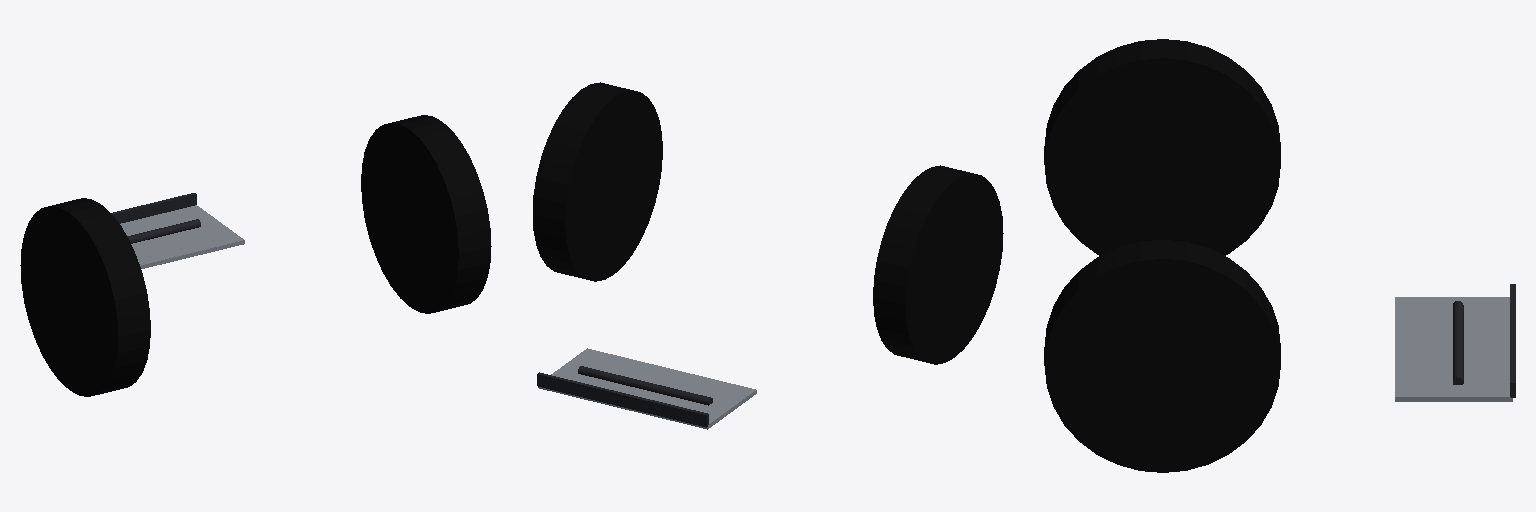
URDF robot description (hand_truck_dolly):
<robot name="hand_truck_dolly">
  <material name="painted_steel">
    <color rgba="0.17 0.18 0.2 1" />
  </material>
  <material name="brushed_steel">
    <color rgba="0.55 0.57 0.6 1" />
  </material>
  <material name="black_rubber">
    <color rgba="0.08 0.08 0.08 1" />
  </material>
  <material name="dark_polymer">
    <color rgba="0.14 0.14 0.15 1" />
  </material>
  <link name="frame">
    <inertial>
      <origin xyz="0 0.018 0.63" rpy="0 0 0" />
      <mass value="7.8" />
      <inertia ixx="0.91442" ixy="0" ixz="0" iyy="1.05482" iyz="0" izz="0.15912" />
    </inertial>
    <visual>
      <geometry>
        <mesh filename="meshes/frame.glb" />
      </geometry>
      <material name="painted_steel">
        <color rgba="0.17 0.18 0.2 1" />
      </material>
    </visual>
    <collision name="frame__visual_1__hull_001">
      <geometry>
        <mesh filename="meshes/collision/cache/539afef2043c40fd7223d4e5__hull_001.obj" />
      </geometry>
    </collision>
    <collision name="frame__visual_1__hull_002">
      <geometry>
        <mesh filename="meshes/collision/cache/539afef2043c40fd7223d4e5__hull_002.obj" />
      </geometry>
    </collision>
    <collision name="frame__visual_1__hull_003">
      <geometry>
        <mesh filename="meshes/collision/cache/539afef2043c40fd7223d4e5__hull_003.obj" />
      </geometry>
    </collision>
    <collision name="frame__visual_1__hull_004">
      <geometry>
        <mesh filename="meshes/collision/cache/539afef2043c40fd7223d4e5__hull_004.obj" />
      </geometry>
    </collision>
    <collision name="frame__visual_1__hull_005">
      <geometry>
        <mesh filename="meshes/collision/cache/539afef2043c40fd7223d4e5__hull_005.obj" />
      </geometry>
    </collision>
    <collision name="frame__visual_1__hull_006">
      <geometry>
        <mesh filename="meshes/collision/cache/539afef2043c40fd7223d4e5__hull_006.obj" />
      </geometry>
    </collision>
    <collision name="frame__visual_1__hull_007">
      <geometry>
        <mesh filename="meshes/collision/cache/539afef2043c40fd7223d4e5__hull_007.obj" />
      </geometry>
    </collision>
    <collision name="frame__visual_1__hull_008">
      <geometry>
        <mesh filename="meshes/collision/cache/539afef2043c40fd7223d4e5__hull_008.obj" />
      </geometry>
    </collision>
    <collision name="frame__visual_1__hull_009">
      <geometry>
        <mesh filename="meshes/collision/cache/539afef2043c40fd7223d4e5__hull_009.obj" />
      </geometry>
    </collision>
  </link>
  <link name="toe_plate">
    <inertial>
      <origin xyz="0 0.12 0.018" rpy="0 0 0" />
      <mass value="2.1" />
      <inertia ixx="0.012355" ixy="0" ixz="0" iyy="0.0216475" iyz="0" izz="0.0311675" />
    </inertial>
    <visual>
      <geometry>
        <mesh filename="meshes/toe_plate.glb" />
      </geometry>
      <material name="brushed_steel">
        <color rgba="0.55 0.57 0.6 1" />
      </material>
    </visual>
    <collision name="toe_plate__visual_1__hull_001">
      <geometry>
        <mesh filename="meshes/collision/cache/704c2d75970f3a1a1082b8c9__hull_001.obj" />
      </geometry>
    </collision>
    <collision name="toe_plate__visual_1__hull_002">
      <geometry>
        <mesh filename="meshes/collision/cache/704c2d75970f3a1a1082b8c9__hull_002.obj" />
      </geometry>
    </collision>
    <collision name="toe_plate__visual_1__hull_003">
      <geometry>
        <mesh filename="meshes/collision/cache/704c2d75970f3a1a1082b8c9__hull_003.obj" />
      </geometry>
    </collision>
    <collision name="toe_plate__visual_1__hull_004">
      <geometry>
        <mesh filename="meshes/collision/cache/704c2d75970f3a1a1082b8c9__hull_004.obj" />
      </geometry>
    </collision>
    <collision name="toe_plate__visual_1__hull_005">
      <geometry>
        <mesh filename="meshes/collision/cache/704c2d75970f3a1a1082b8c9__hull_005.obj" />
      </geometry>
    </collision>
    <collision name="toe_plate__visual_1__hull_006">
      <geometry>
        <mesh filename="meshes/collision/cache/704c2d75970f3a1a1082b8c9__hull_006.obj" />
      </geometry>
    </collision>
    <collision name="toe_plate__visual_1__hull_007">
      <geometry>
        <mesh filename="meshes/collision/cache/704c2d75970f3a1a1082b8c9__hull_007.obj" />
      </geometry>
    </collision>
    <collision name="toe_plate__visual_1__hull_008">
      <geometry>
        <mesh filename="meshes/collision/cache/704c2d75970f3a1a1082b8c9__hull_008.obj" />
      </geometry>
    </collision>
    <collision name="toe_plate__visual_1__hull_009">
      <geometry>
        <mesh filename="meshes/collision/cache/704c2d75970f3a1a1082b8c9__hull_009.obj" />
      </geometry>
    </collision>
    <collision name="toe_plate__visual_1__hull_010">
      <geometry>
        <mesh filename="meshes/collision/cache/704c2d75970f3a1a1082b8c9__hull_010.obj" />
      </geometry>
    </collision>
    <collision name="toe_plate__visual_1__hull_011">
      <geometry>
        <mesh filename="meshes/collision/cache/704c2d75970f3a1a1082b8c9__hull_011.obj" />
      </geometry>
    </collision>
    <collision name="toe_plate__visual_1__hull_012">
      <geometry>
        <mesh filename="meshes/collision/cache/704c2d75970f3a1a1082b8c9__hull_012.obj" />
      </geometry>
    </collision>
    <collision name="toe_plate__visual_1__hull_013">
      <geometry>
        <mesh filename="meshes/collision/cache/704c2d75970f3a1a1082b8c9__hull_013.obj" />
      </geometry>
    </collision>
    <collision name="toe_plate__visual_1__hull_014">
      <geometry>
        <mesh filename="meshes/collision/cache/704c2d75970f3a1a1082b8c9__hull_014.obj" />
      </geometry>
    </collision>
    <collision name="toe_plate__visual_1__hull_015">
      <geometry>
        <mesh filename="meshes/collision/cache/704c2d75970f3a1a1082b8c9__hull_015.obj" />
      </geometry>
    </collision>
    <collision name="toe_plate__visual_1__hull_016">
      <geometry>
        <mesh filename="meshes/collision/cache/704c2d75970f3a1a1082b8c9__hull_016.obj" />
      </geometry>
    </collision>
  </link>
  <link name="toe_extension">
    <inertial>
      <origin xyz="0 0.065 0.006" rpy="0 0 0" />
      <mass value="0.8" />
      <inertia ixx="0.00134833" ixy="0" ixz="0" iyy="0.00454833" iyz="0" izz="0.00581333" />
    </inertial>
    <visual>
      <origin xyz="0 0.055 -0.003" rpy="0 0 0" />
      <geometry>
        <box size="0.26 0.13 0.006" />
      </geometry>
      <material name="brushed_steel">
        <color rgba="0.55 0.57 0.6 1" />
      </material>
    </visual>
    <visual>
      <origin xyz="0 0.12 0.007" rpy="0 0 0" />
      <geometry>
        <box size="0.26 0.006 0.018" />
      </geometry>
      <material name="painted_steel">
        <color rgba="0.17 0.18 0.2 1" />
      </material>
    </visual>
    <visual>
      <origin xyz="0 0.06 0.003" rpy="0 1.5708 0" />
      <geometry>
        <cylinder radius="0.006" length="0.2" />
      </geometry>
      <material name="painted_steel">
        <color rgba="0.17 0.18 0.2 1" />
      </material>
    </visual>
    <collision name="toe_extension__visual_1">
      <origin xyz="0 0.055 -0.003" rpy="0 0 0" />
      <geometry>
        <box size="0.26 0.13 0.006" />
      </geometry>
    </collision>
    <collision name="toe_extension__visual_2">
      <origin xyz="0 0.12 0.007" rpy="0 0 0" />
      <geometry>
        <box size="0.26 0.006 0.018" />
      </geometry>
    </collision>
    <collision name="toe_extension__visual_3">
      <origin xyz="0 0.06 0.003" rpy="0 1.5708 0" />
      <geometry>
        <cylinder radius="0.006" length="0.2" />
      </geometry>
    </collision>
  </link>
  <link name="left_wheel">
    <inertial>
      <origin xyz="0.026 0 0" rpy="0 1.5708 0" />
      <mass value="1.9" />
      <inertia ixx="0.00842333" ixy="0" ixz="0" iyy="0.00842333" iyz="0" izz="0.016055" />
    </inertial>
    <visual>
      <origin xyz="0.026 0 0" rpy="0 1.5708 0" />
      <geometry>
        <cylinder radius="0.13" length="0.05" />
      </geometry>
      <material name="black_rubber">
        <color rgba="0.08 0.08 0.08 1" />
      </material>
    </visual>
    <visual>
      <origin xyz="0.026 0 0" rpy="0 1.5708 0" />
      <geometry>
        <cylinder radius="0.07" length="0.036" />
      </geometry>
      <material name="dark_polymer">
        <color rgba="0.14 0.14 0.15 1" />
      </material>
    </visual>
    <visual>
      <origin xyz="0.026 0 0" rpy="0 1.5708 0" />
      <geometry>
        <cylinder radius="0.03" length="0.044" />
      </geometry>
      <material name="brushed_steel">
        <color rgba="0.55 0.57 0.6 1" />
      </material>
    </visual>
    <collision name="left_wheel__visual_1">
      <origin xyz="0.026 0 0" rpy="0 1.5708 0" />
      <geometry>
        <cylinder radius="0.13" length="0.05" />
      </geometry>
    </collision>
    <collision name="left_wheel__visual_2">
      <origin xyz="0.026 0 0" rpy="0 1.5708 0" />
      <geometry>
        <cylinder radius="0.07" length="0.036" />
      </geometry>
    </collision>
    <collision name="left_wheel__visual_3">
      <origin xyz="0.026 0 0" rpy="0 1.5708 0" />
      <geometry>
        <cylinder radius="0.03" length="0.044" />
      </geometry>
    </collision>
  </link>
  <link name="right_wheel">
    <inertial>
      <origin xyz="-0.026 0 0" rpy="0 1.5708 0" />
      <mass value="1.9" />
      <inertia ixx="0.00842333" ixy="0" ixz="0" iyy="0.00842333" iyz="0" izz="0.016055" />
    </inertial>
    <visual>
      <origin xyz="-0.026 0 0" rpy="0 1.5708 0" />
      <geometry>
        <cylinder radius="0.13" length="0.05" />
      </geometry>
      <material name="black_rubber">
        <color rgba="0.08 0.08 0.08 1" />
      </material>
    </visual>
    <visual>
      <origin xyz="-0.026 0 0" rpy="0 1.5708 0" />
      <geometry>
        <cylinder radius="0.07" length="0.036" />
      </geometry>
      <material name="dark_polymer">
        <color rgba="0.14 0.14 0.15 1" />
      </material>
    </visual>
    <visual>
      <origin xyz="-0.026 0 0" rpy="0 1.5708 0" />
      <geometry>
        <cylinder radius="0.03" length="0.044" />
      </geometry>
      <material name="brushed_steel">
        <color rgba="0.55 0.57 0.6 1" />
      </material>
    </visual>
    <collision name="right_wheel__visual_1">
      <origin xyz="-0.026 0 0" rpy="0 1.5708 0" />
      <geometry>
        <cylinder radius="0.13" length="0.05" />
      </geometry>
    </collision>
    <collision name="right_wheel__visual_2">
      <origin xyz="-0.026 0 0" rpy="0 1.5708 0" />
      <geometry>
        <cylinder radius="0.07" length="0.036" />
      </geometry>
    </collision>
    <collision name="right_wheel__visual_3">
      <origin xyz="-0.026 0 0" rpy="0 1.5708 0" />
      <geometry>
        <cylinder radius="0.03" length="0.044" />
      </geometry>
    </collision>
  </link>
  <joint name="frame_to_toe_plate" type="fixed">
    <origin xyz="0 0.03 0.055" rpy="0 0 0" />
    <parent link="frame" />
    <child link="toe_plate" />
  </joint>
  <joint name="toe_extension_hinge" type="revolute">
    <origin xyz="0 0.235 0" rpy="0 0 0" />
    <parent link="toe_plate" />
    <child link="toe_extension" />
    <axis xyz="1 0 0" />
    <limit effort="12" velocity="2.5" lower="0" upper="1.35" />
  </joint>
  <joint name="left_wheel_spin" type="continuous">
    <origin xyz="0.235 0 0.165" rpy="0 0 0" />
    <parent link="frame" />
    <child link="left_wheel" />
    <axis xyz="1 0 0" />
    <limit effort="18" velocity="20" />
  </joint>
  <joint name="right_wheel_spin" type="continuous">
    <origin xyz="-0.235 0 0.165" rpy="0 0 0" />
    <parent link="frame" />
    <child link="right_wheel" />
    <axis xyz="1 0 0" />
    <limit effort="18" velocity="20" />
  </joint>
</robot>

--- Facts derived from the render (not from the file) ---
The picture shows the robot from 3 angles, left to right: view 1: azimuth 30°, elevation 25°; view 2: azimuth 150°, elevation 25°; view 3: azimuth 270°, elevation 25°; orthographic projection.
Model hand_truck_dolly with 5 links and 4 joints (1 revolute, 2 continuous, 1 fixed), rooted at frame, posed all joints at 0.
Links seen in each view (by area): view 1: left_wheel, right_wheel, toe_extension; view 2: right_wheel, left_wheel, toe_extension; view 3: left_wheel, right_wheel, toe_extension.
Boxes of the visible links, left/top/right/bottom form: left_wheel: left=361, top=115, right=491, bottom=313; right_wheel: left=20, top=198, right=150, bottom=396; toe_extension: left=112, top=193, right=244, bottom=268; right_wheel: left=873, top=165, right=1003, bottom=364; left_wheel: left=533, top=82, right=662, bottom=281; toe_extension: left=537, top=348, right=756, bottom=429; left_wheel: left=1044, top=240, right=1280, bottom=472; right_wheel: left=1044, top=39, right=1280, bottom=255; toe_extension: left=1395, top=284, right=1515, bottom=401.
Size in the robot's own frame: 0.572 by 0.518 by 0.26 metres.
Meshes: 2 distinct files referenced, 0 mesh visuals loaded (none loaded); not drawn: 2 (reference not matched to a file when rendering).
